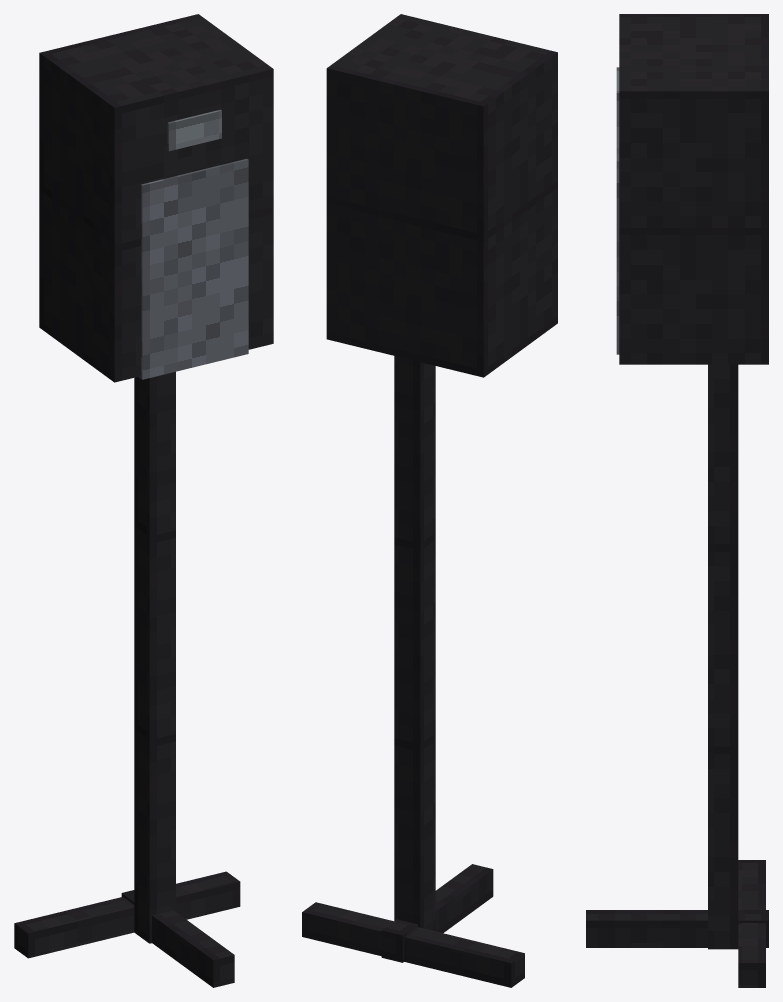
Rendered from paSpeakerPole.glb.
3 views of the same model, side by side, from view 1: azimuth 30°, elevation 25°; view 2: azimuth 150°, elevation 25°; view 3: azimuth 270°, elevation 25° (orthographic).
Visible parts, largest first — view 1: paSpeakerPole_0; view 2: paSpeakerPole_0; view 3: paSpeakerPole_0.
Boxes of the visible parts, x1,y1,x2,y2 form: paSpeakerPole_0: [14, 14, 273, 987]; paSpeakerPole_0: [302, 14, 557, 987]; paSpeakerPole_0: [586, 14, 768, 987].
Bounding box in the file's own units: 0.5 × 2 × 0.375.
1 material, 1 textured.
